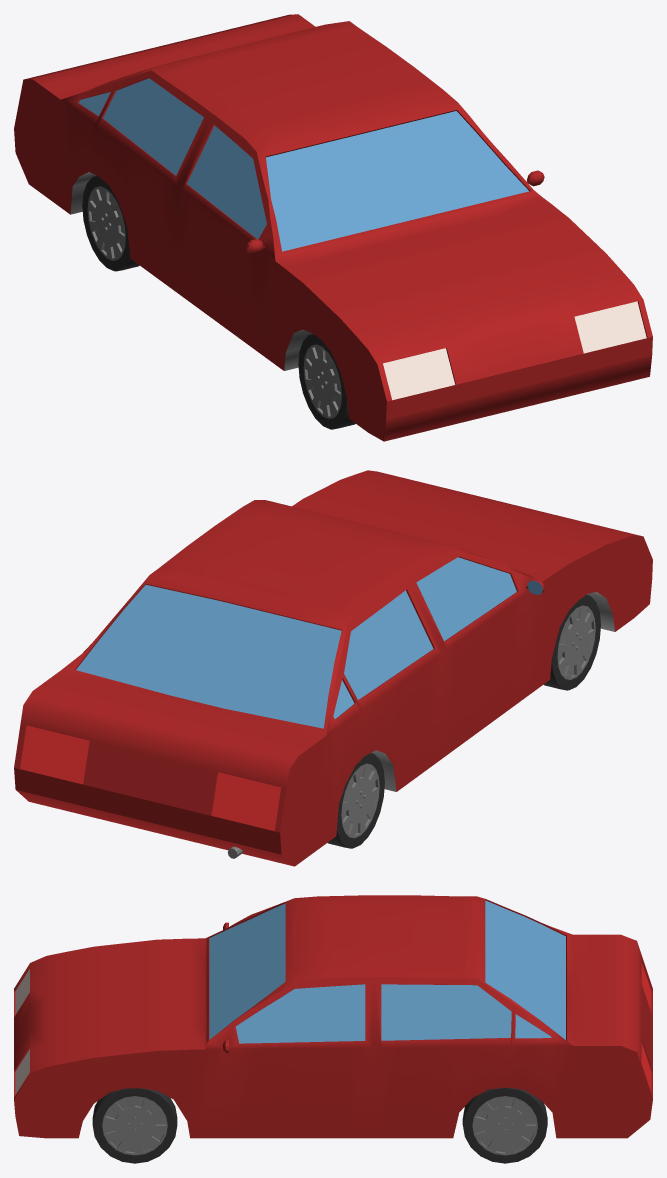
The model's file is Car Obstacle.fbx.
3 renders of one model, top to bottom at view 1: azimuth 30°, elevation 25°; view 2: azimuth 150°, elevation 25°; view 3: azimuth 270°, elevation 25°, orthographic. The views are drawn at different scales.
Visible parts, largest first — view 1: CarFrame, Wheels1 (×2); view 2: CarFrame, Wheels1 (×2); view 3: CarFrame, Wheels1 (×2).
Part boxes in pixels (box(x1,y1,x2,y2)): CarFrame: box(14, 14, 652, 441); Wheels1 (×2): box(82, 175, 355, 429); CarFrame: box(14, 470, 652, 866); Wheels1 (×2): box(327, 594, 600, 848); CarFrame: box(14, 895, 652, 1138); Wheels1 (×2): box(92, 1087, 547, 1163).
Size of the model in its own units: 182 by 122 by 397.
1 material, 1 textured.
